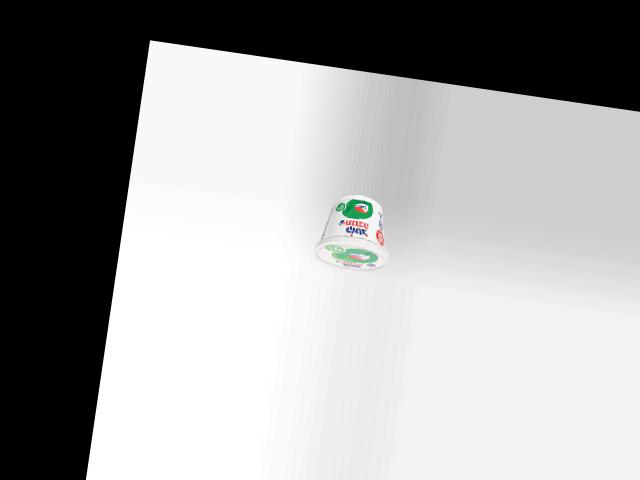cotage: (311, 189, 398, 275)
